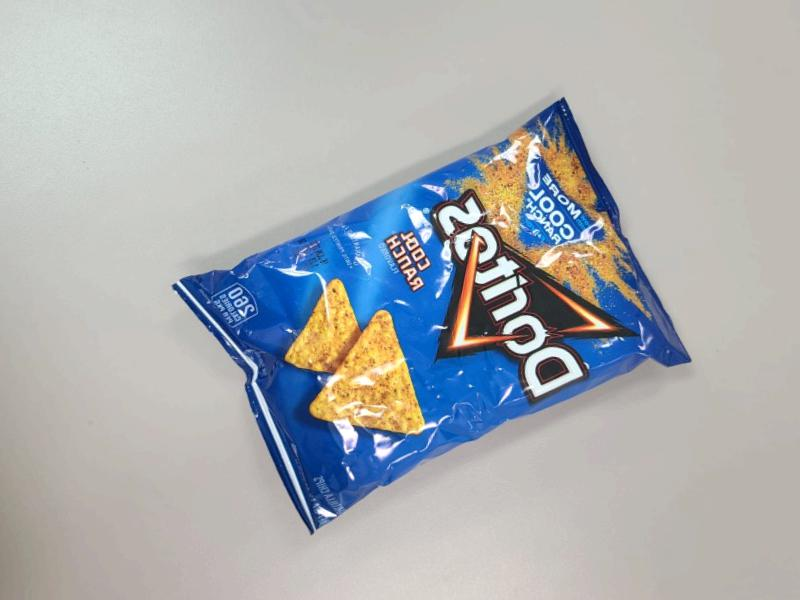doritos: (240, 114, 723, 549)
